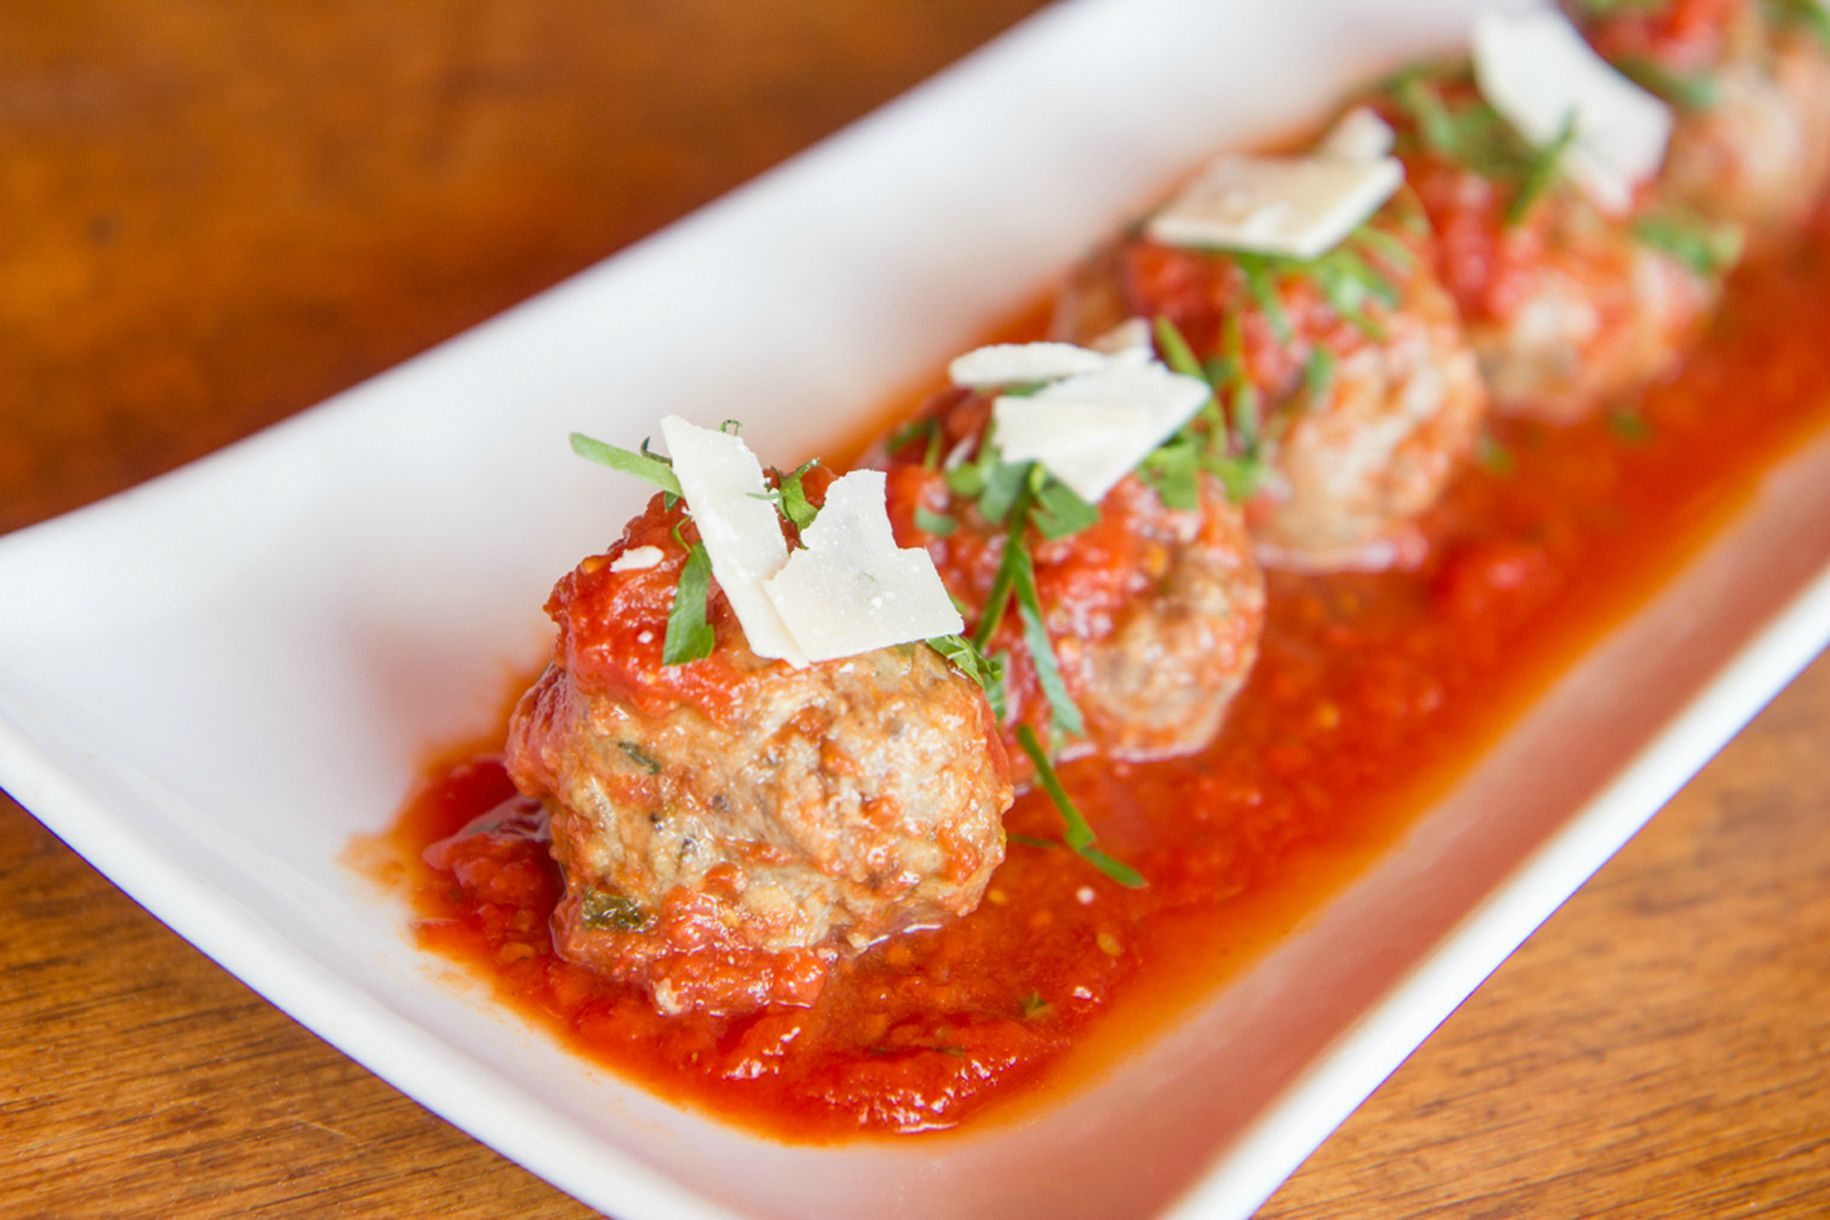meatballs: (521, 534, 991, 978), (1072, 172, 1450, 573), (910, 368, 1265, 742), (1364, 54, 1727, 385)
